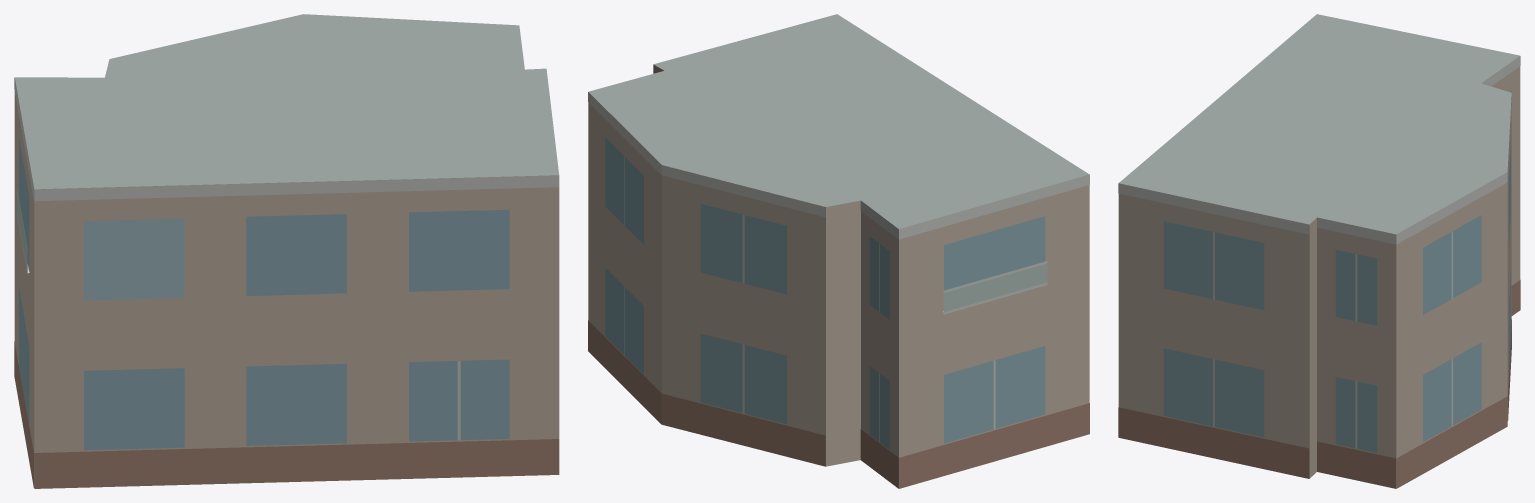
The model's file is survey-upis-32487074.glb.
The picture shows the model from 3 angles, left to right: view 1: azimuth 30°, elevation 25°; view 2: azimuth 150°, elevation 25°; view 3: azimuth 270°, elevation 25°; orthographic projection. The views are drawn at different scales.
Visible parts, largest first — view 1: survey-upis-32487074.tmp; view 2: survey-upis-32487074.tmp; view 3: survey-upis-32487074.tmp.
Part boxes in pixels (box(x1,y1,x2,y2)): survey-upis-32487074.tmp: box(14, 14, 559, 488); survey-upis-32487074.tmp: box(588, 14, 1089, 488); survey-upis-32487074.tmp: box(1118, 14, 1520, 488).
Size of the model in its own units: 11.35 by 6.1 by 8.75.
